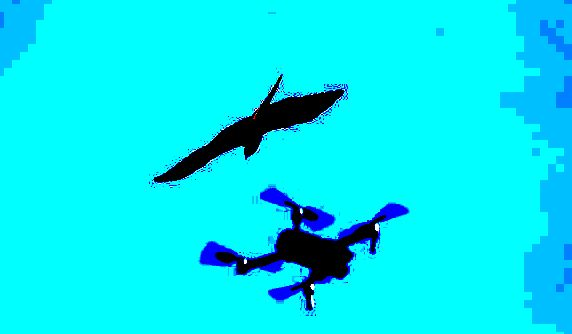Bird: (145, 69, 351, 186)
Drone: (199, 183, 412, 313)
